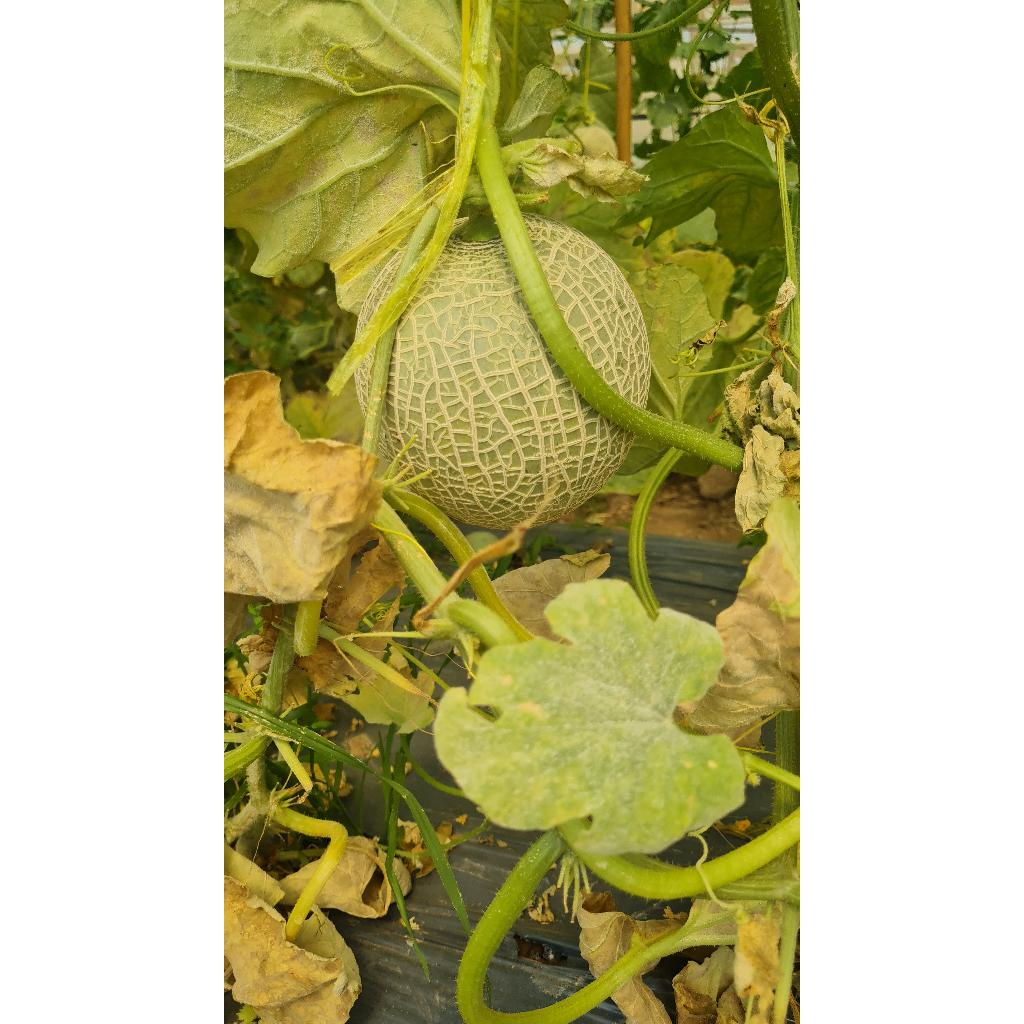melon: (380, 238, 634, 530), (526, 214, 650, 408)
